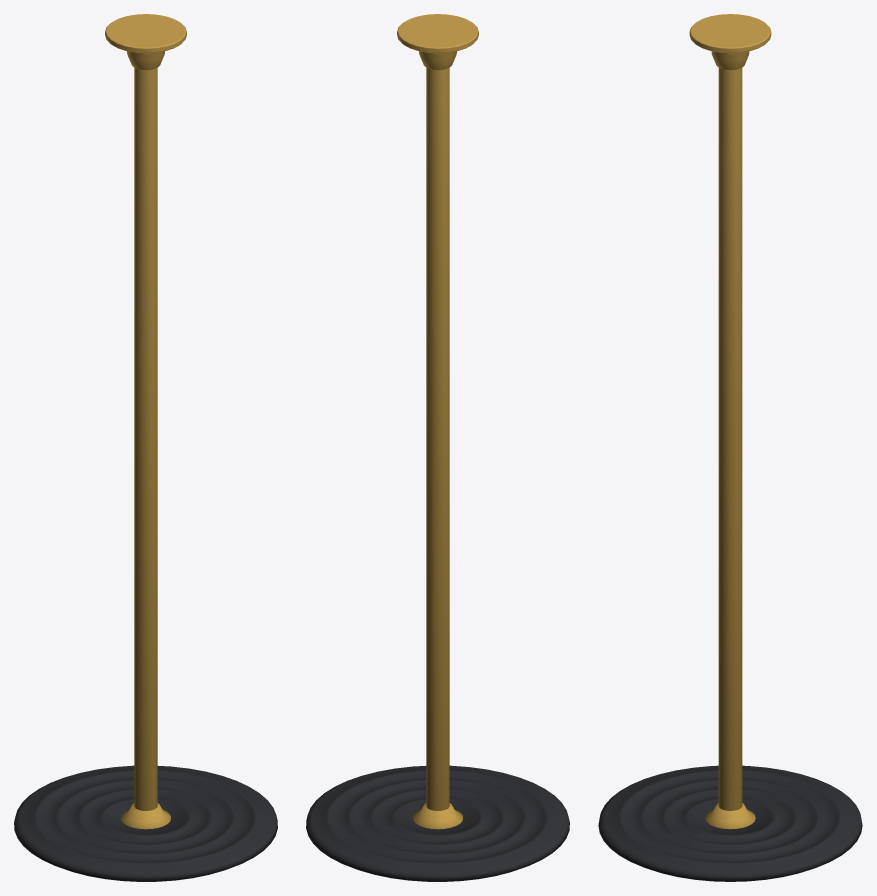
The model's file is firePole.glb.
3 renders of one model, left to right at view 1: azimuth 30°, elevation 25°; view 2: azimuth 150°, elevation 25°; view 3: azimuth 270°, elevation 25°, orthographic.
Visible parts, largest first — view 1: firePole; view 2: firePole; view 3: firePole.
Part boxes in pixels (<box>): firePole: <box>14,14,277,881</box>; firePole: <box>306,14,569,881</box>; firePole: <box>598,14,862,881</box>.
Bounding box in the file's own units: 0.84 × 2.8 × 0.84.
